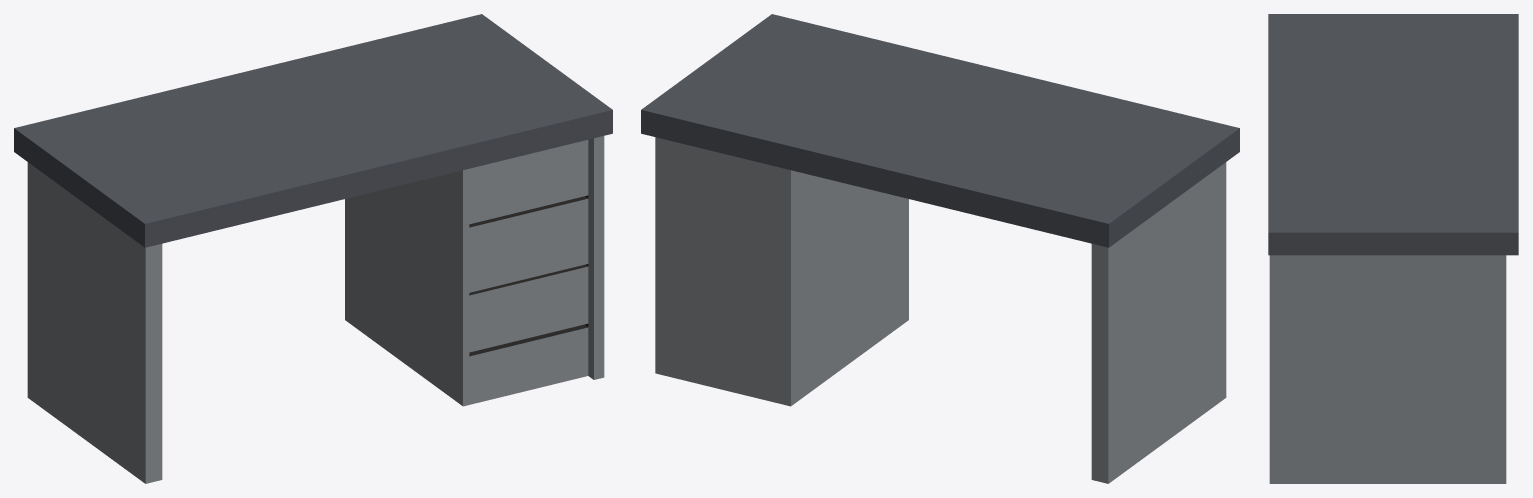
Rendered from Desk_2C.fbx.
3 renders of one model, left to right at view 1: azimuth 30°, elevation 25°; view 2: azimuth 150°, elevation 25°; view 3: azimuth 270°, elevation 25°, orthographic. The views are drawn at different scales.
Visible parts, largest first — view 1: polySurface1705; view 2: polySurface1705; view 3: polySurface1705.
Boxes of the visible parts, x1,y1,x2,y2 form: polySurface1705: [14, 14, 612, 483]; polySurface1705: [641, 14, 1239, 483]; polySurface1705: [1268, 14, 1518, 483].
Bounding box in the file's own units: 1.68 × 0.9158 × 0.8157.
Materials: 1 (1 with a texture image).
